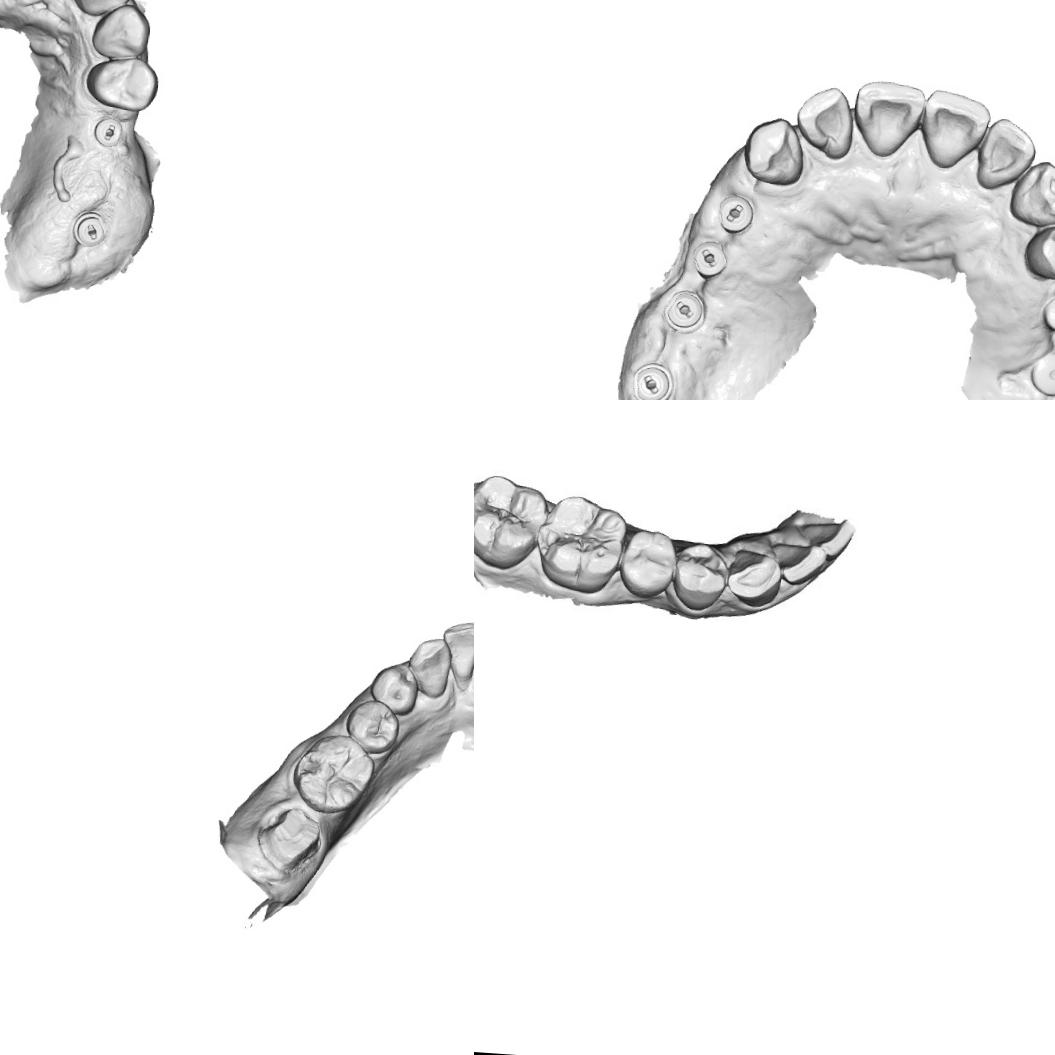canine: (741, 115, 808, 188), (88, 0, 153, 63), (726, 546, 782, 608), (1006, 159, 1055, 229), (403, 634, 452, 700)
crown: (253, 804, 322, 874)
implant: (1031, 347, 1055, 396), (1039, 288, 1055, 333)
implant_minus: (664, 292, 710, 334), (689, 236, 733, 276), (628, 363, 673, 400), (70, 209, 108, 249), (718, 193, 756, 231), (92, 114, 126, 150)
incisor: (915, 83, 991, 170), (850, 80, 924, 160), (972, 115, 1038, 190), (792, 84, 856, 160), (796, 514, 858, 558), (439, 618, 474, 682), (776, 540, 826, 582), (82, 0, 136, 17)
molar: (538, 485, 627, 594), (474, 466, 549, 578), (288, 729, 378, 817)
premolar: (82, 54, 161, 115), (668, 538, 729, 610), (618, 526, 676, 600), (340, 697, 401, 756), (364, 657, 420, 716), (1019, 209, 1055, 285)
